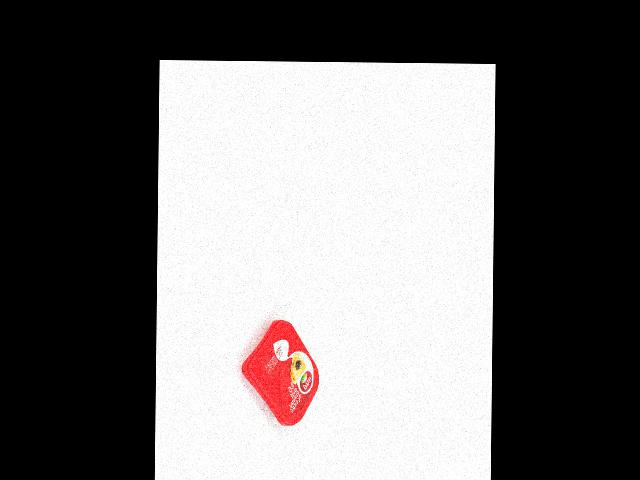cheese: (240, 318, 320, 426)
